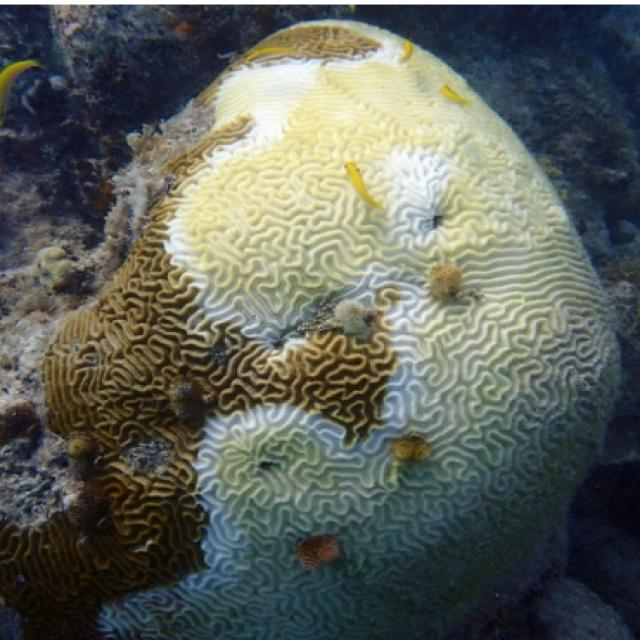Coral: (8, 19, 622, 640)
